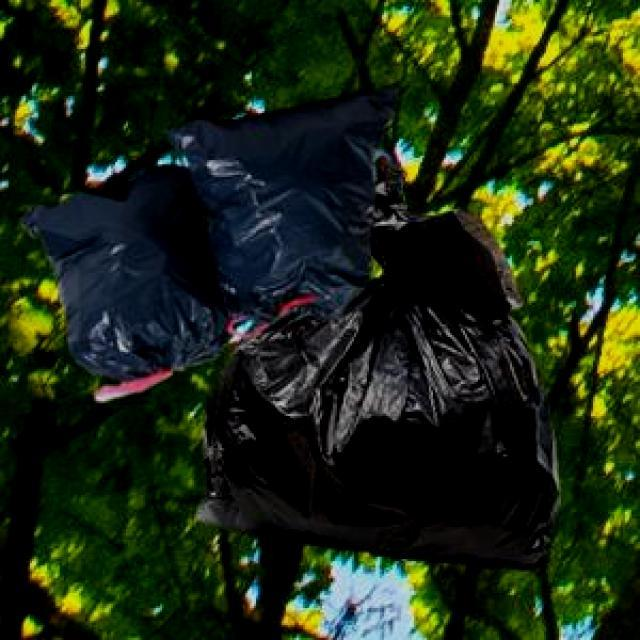Trashbag: (194, 238, 570, 558), (180, 86, 408, 304), (19, 150, 221, 384)
